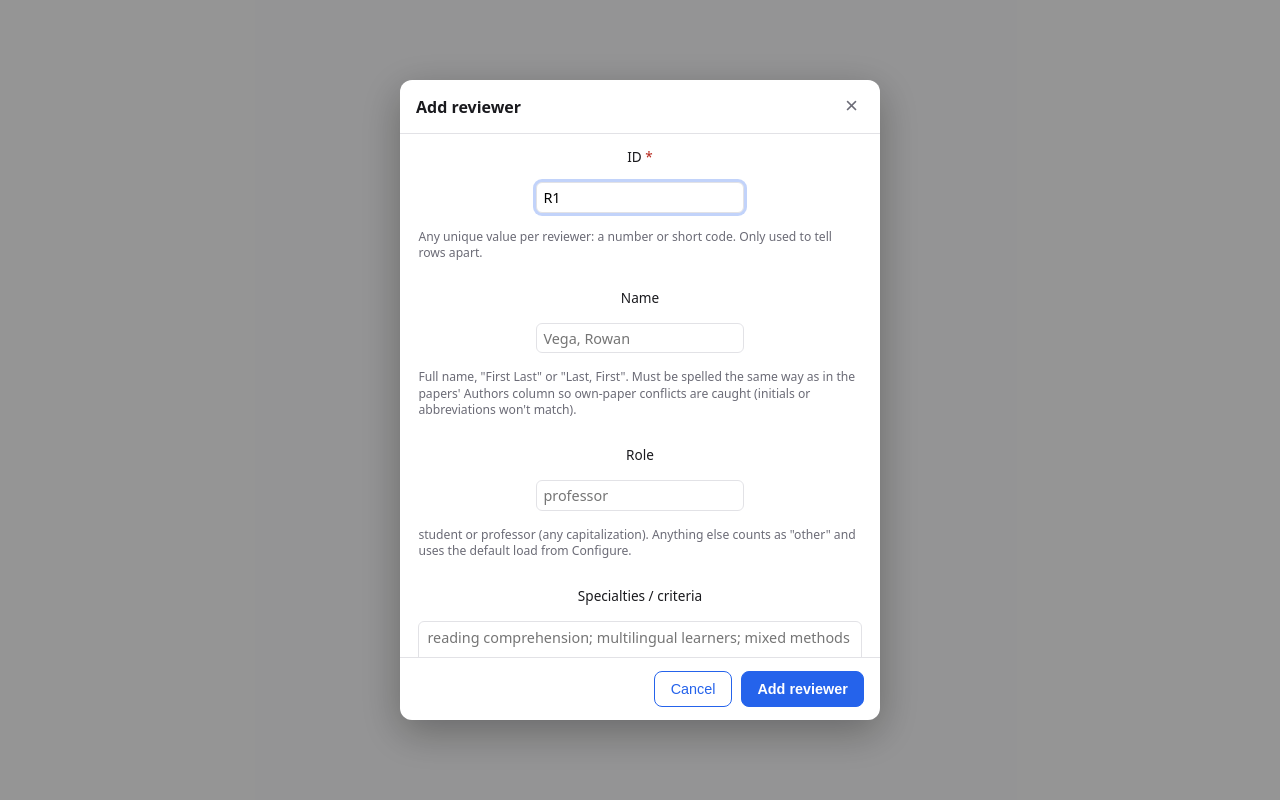
Test case: AddEntityModal › requires an id
Step 1. Clear the field labelled "ID" → (640, 197), box [536, 182, 744, 213]
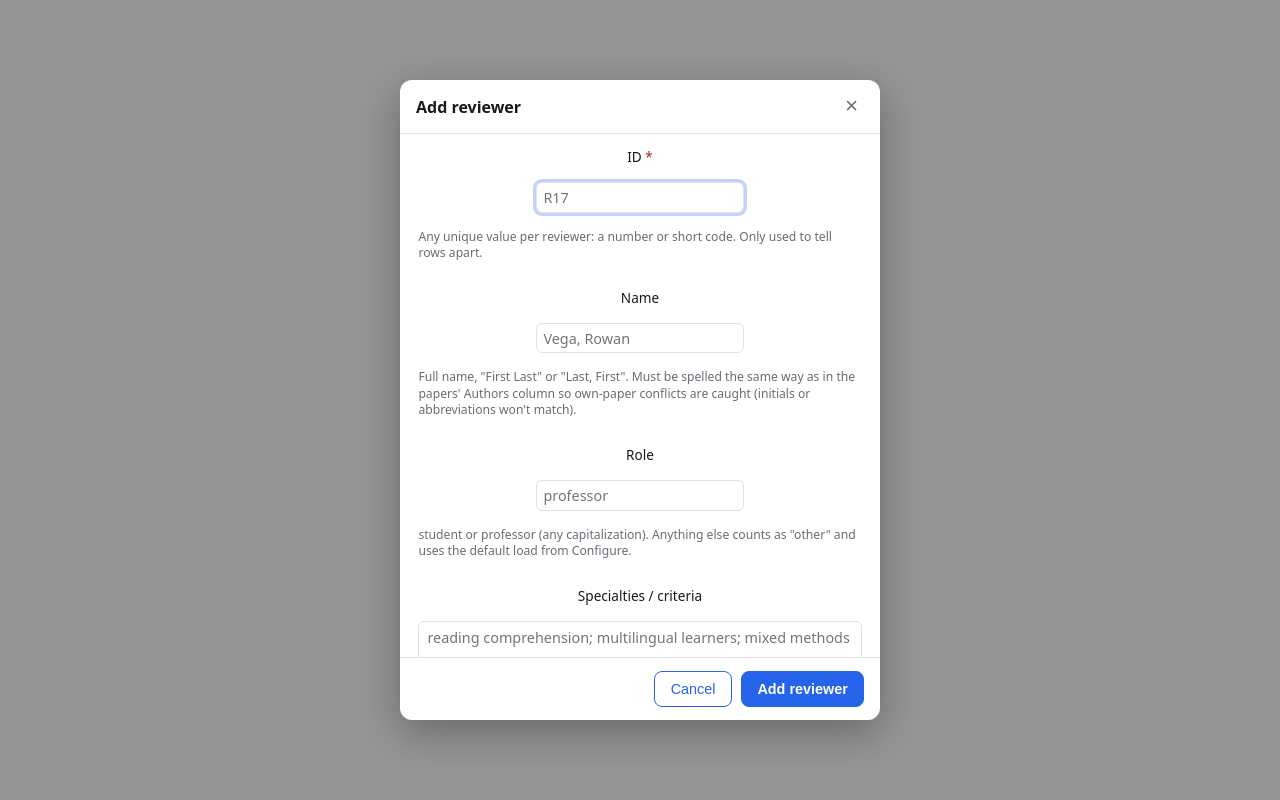
Step 2. Click the button "Add reviewer" → click(803, 689), box [741, 671, 864, 707]
(page scrolled)
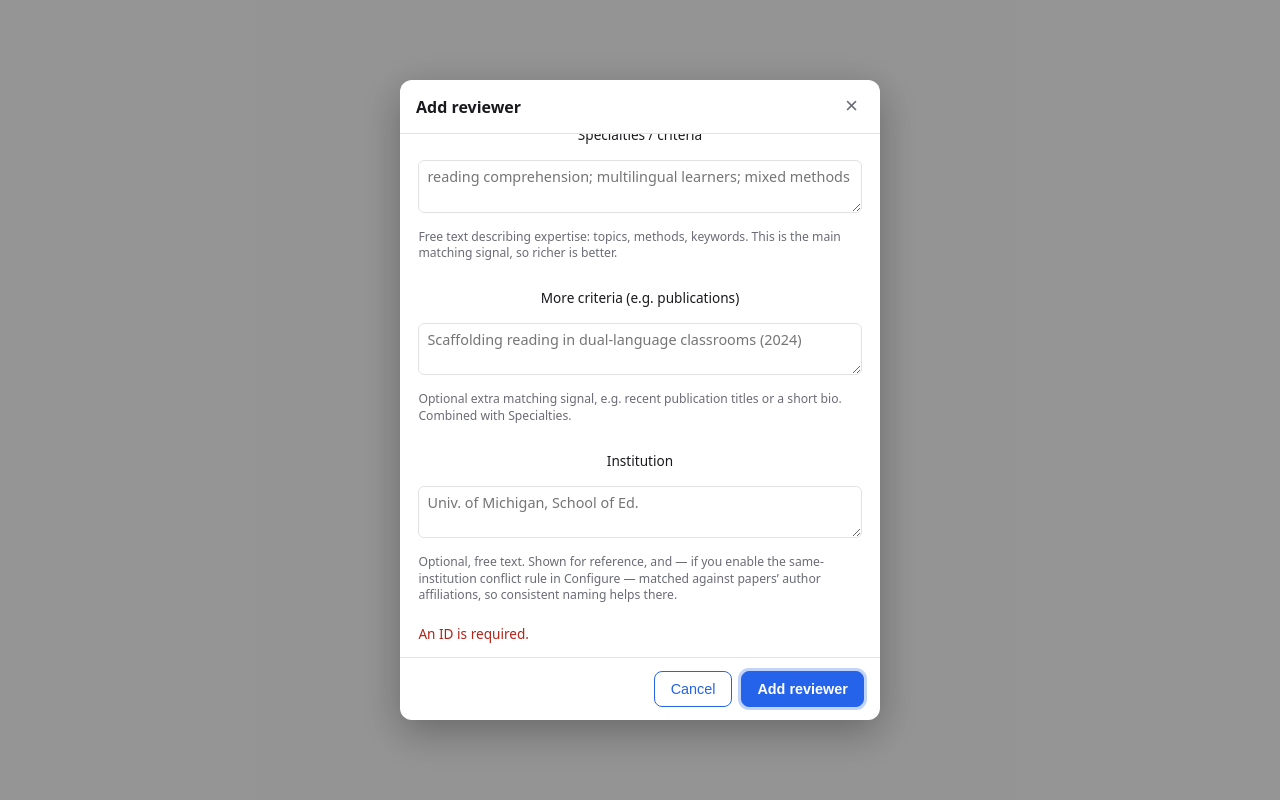
Check: the text "An ID is required." is shown, box [418, 624, 529, 643]
